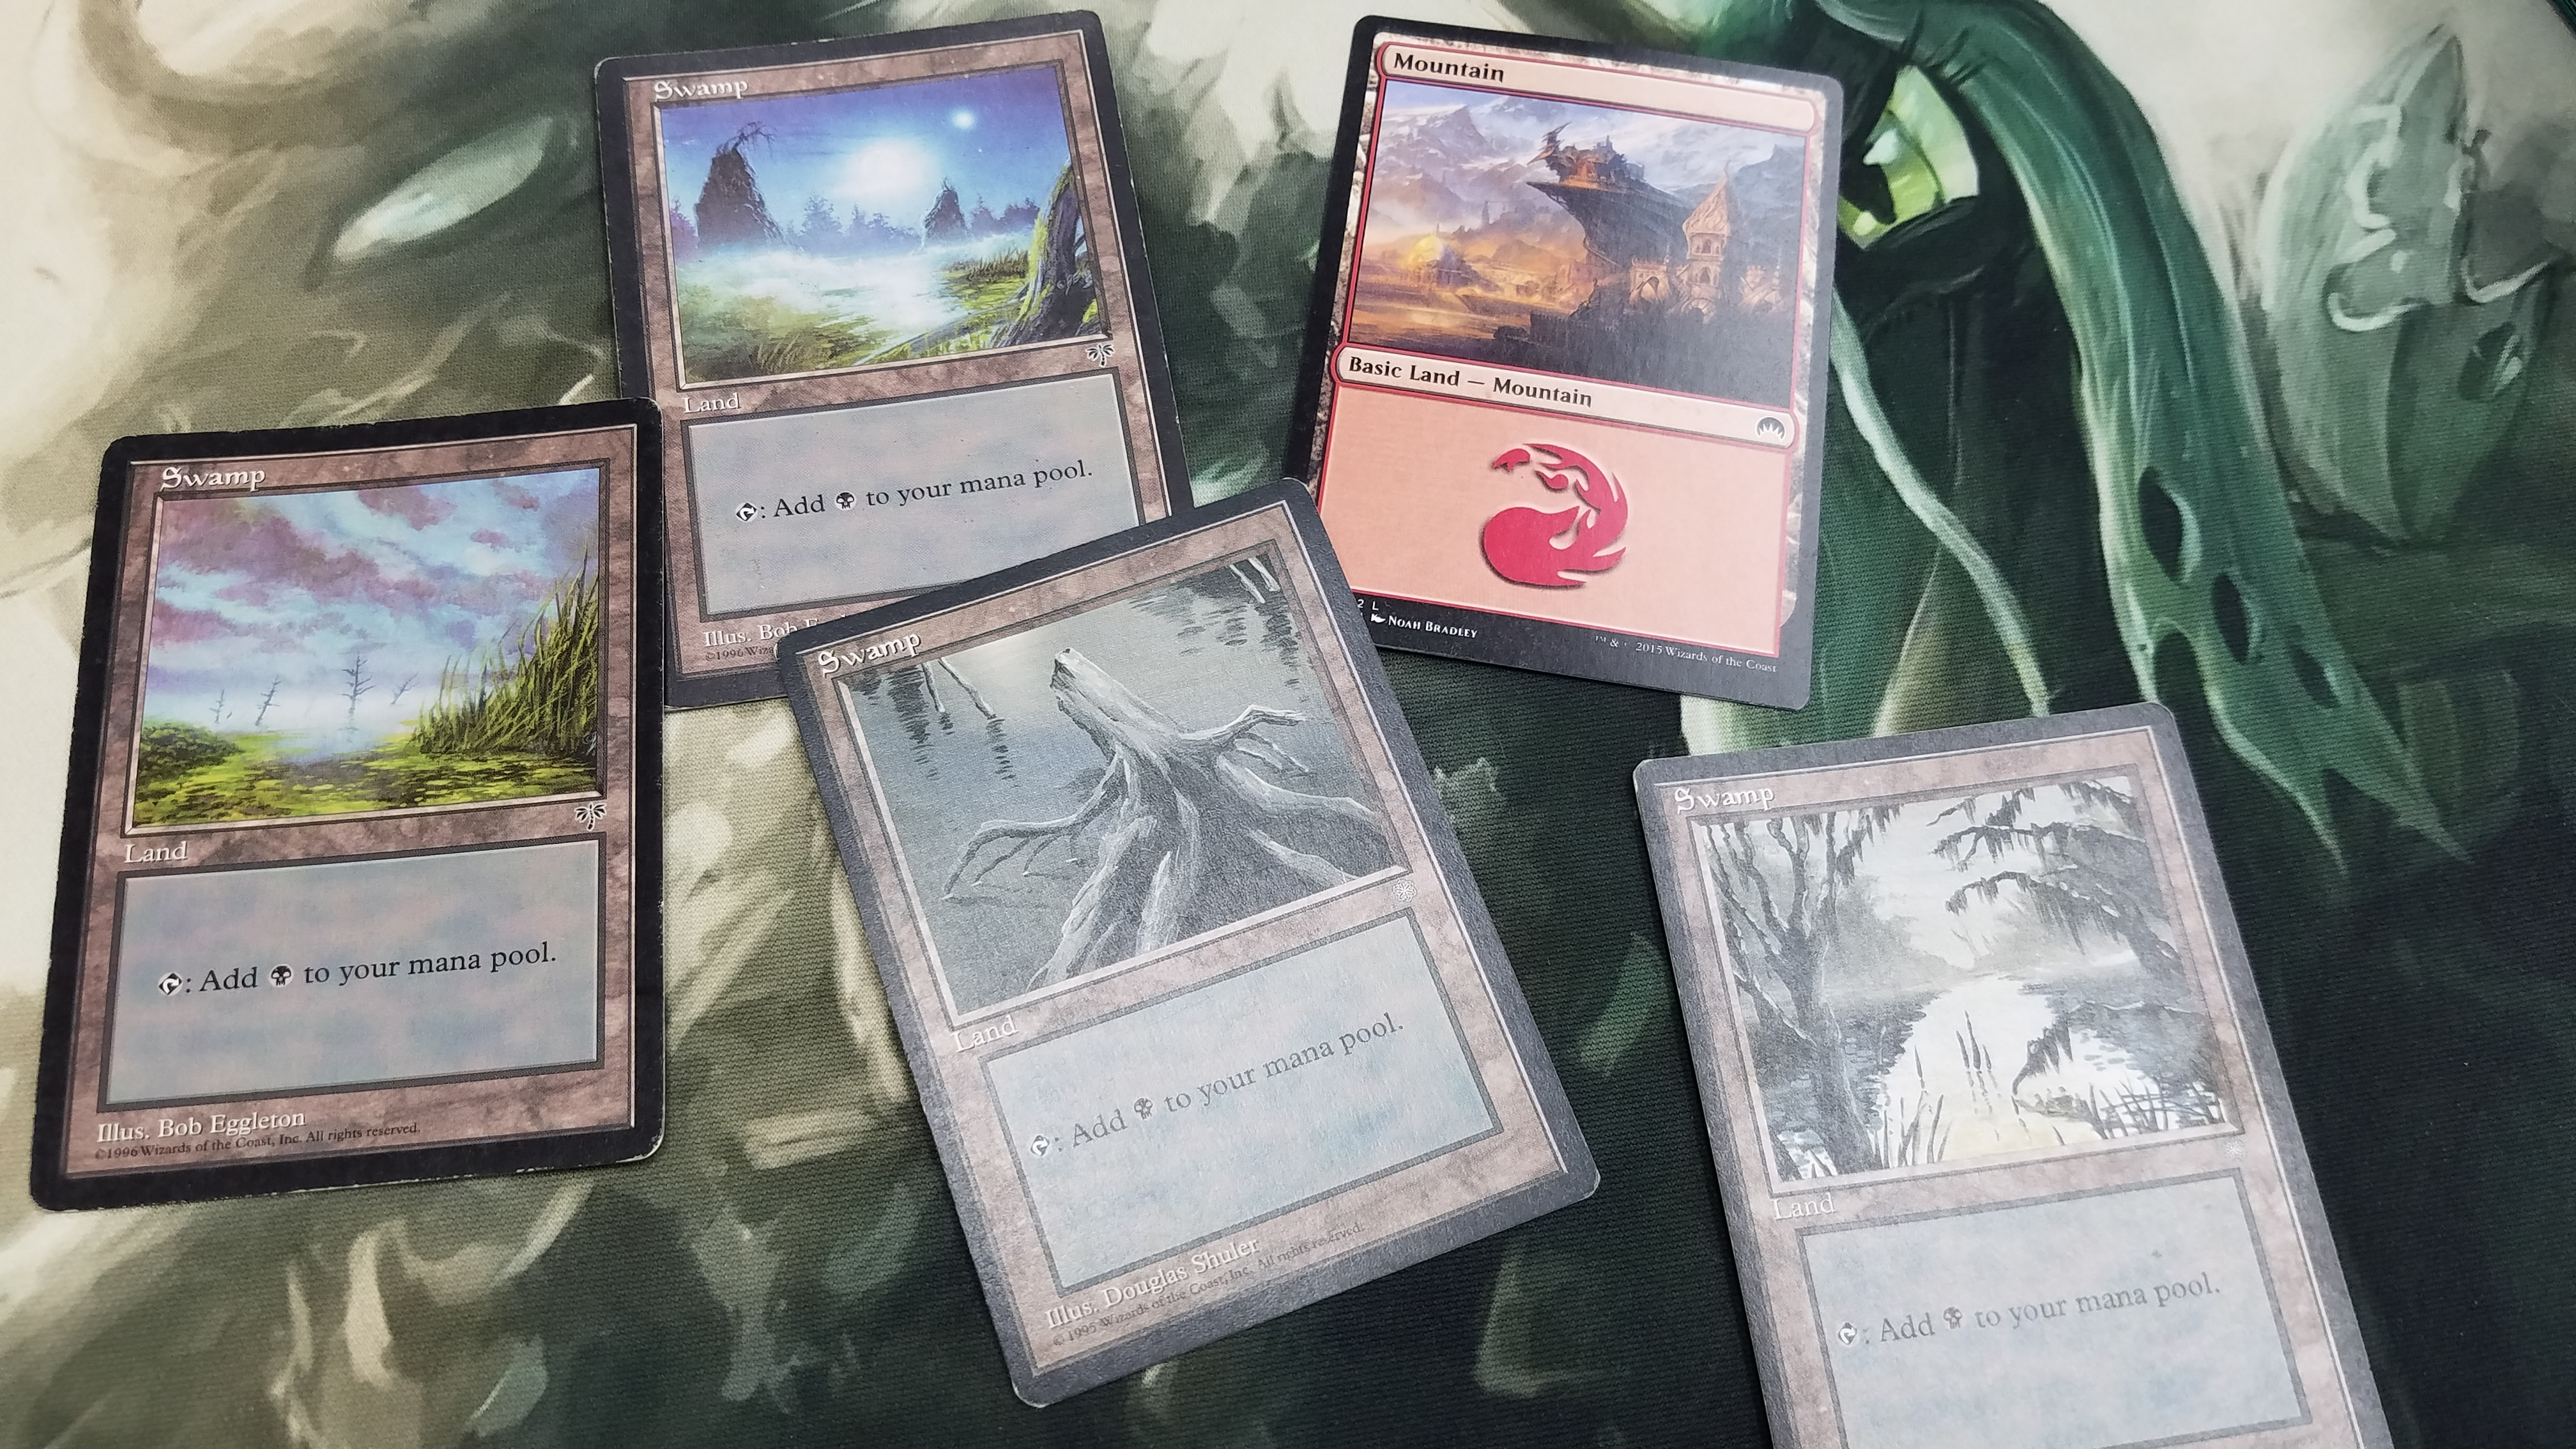Card: (773, 465, 1603, 1414), (1606, 692, 2396, 1449), (25, 400, 679, 1221), (564, 5, 1212, 761), (1283, 14, 1854, 729)
